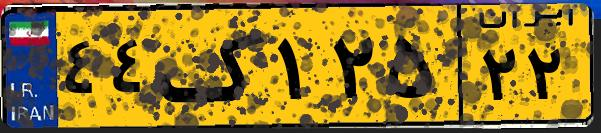1: (270, 28, 330, 110)
2: (330, 28, 385, 110), (475, 38, 525, 113), (525, 38, 570, 115)
4: (57, 26, 110, 100), (110, 28, 158, 98)
5: (385, 28, 445, 110)
ک: (158, 12, 270, 120)
